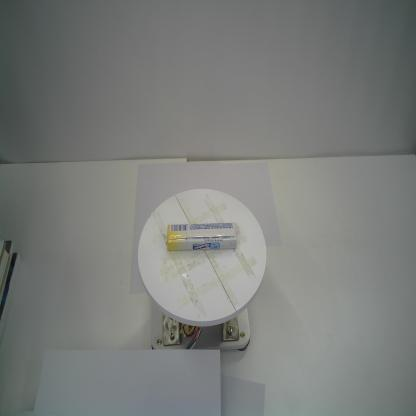Candy: (167, 221, 237, 252)
